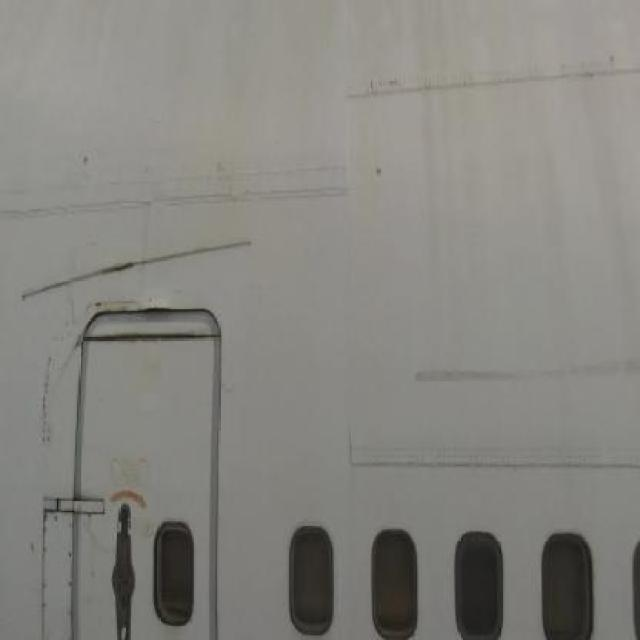Rust: (38, 298, 56, 456)
Scartch: (394, 333, 638, 418), (68, 304, 84, 358)
